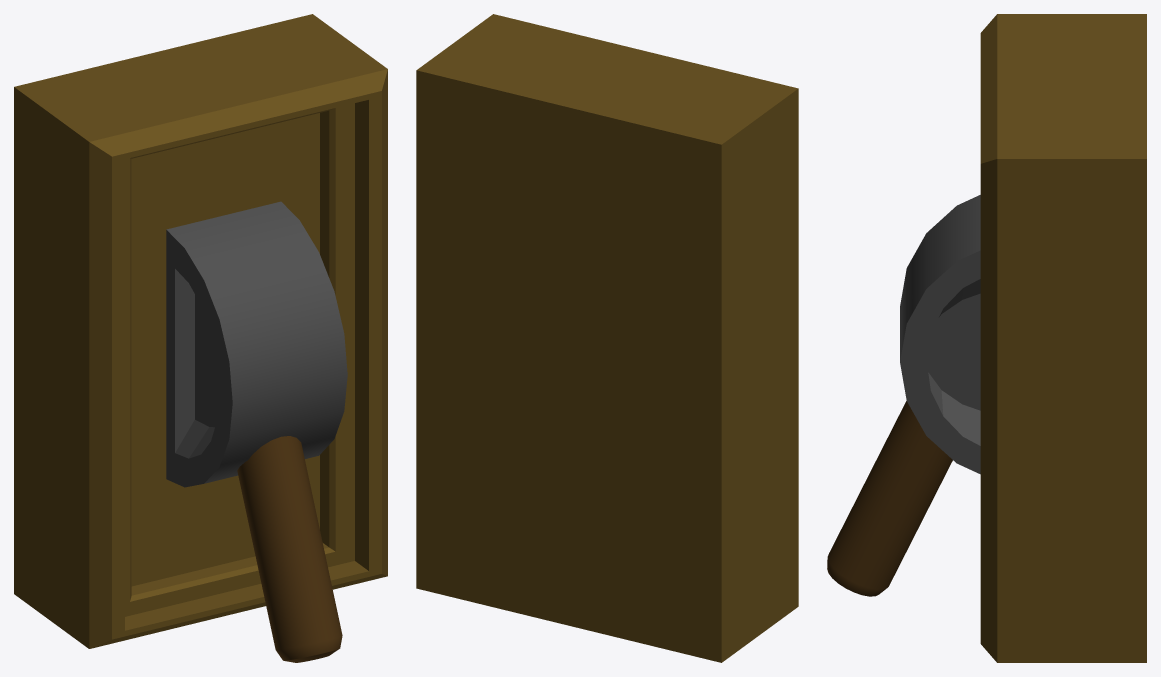
The model's file is Anim_Lever_Activate.fbx.
3 views of the same model, side by side, from view 1: azimuth 30°, elevation 25°; view 2: azimuth 150°, elevation 25°; view 3: azimuth 270°, elevation 25° (orthographic). The views are drawn at different scales.
Parts seen in each view (by area): view 1: Base, Mechanism, Lever; view 2: Base; view 3: Base, Mechanism, Lever.
Boxes of the visible parts, x1,y1,x2,y2 form: Base: (14, 14, 387, 648); Mechanism: (166, 201, 347, 487); Lever: (237, 436, 342, 662); Base: (416, 14, 798, 662); Base: (980, 14, 1146, 662); Mechanism: (900, 195, 980, 474); Lever: (827, 401, 952, 596).
Size of the model in its own units: 0.4374 by 0.71 by 0.4079.
